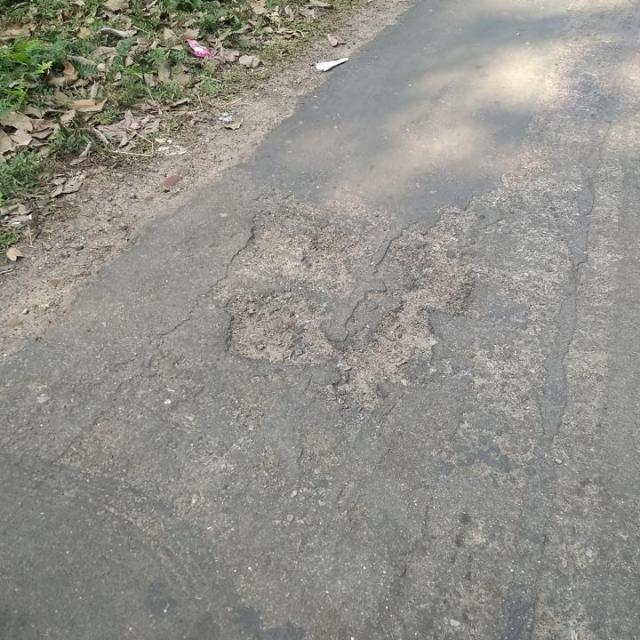pothole: (207, 198, 486, 414)
